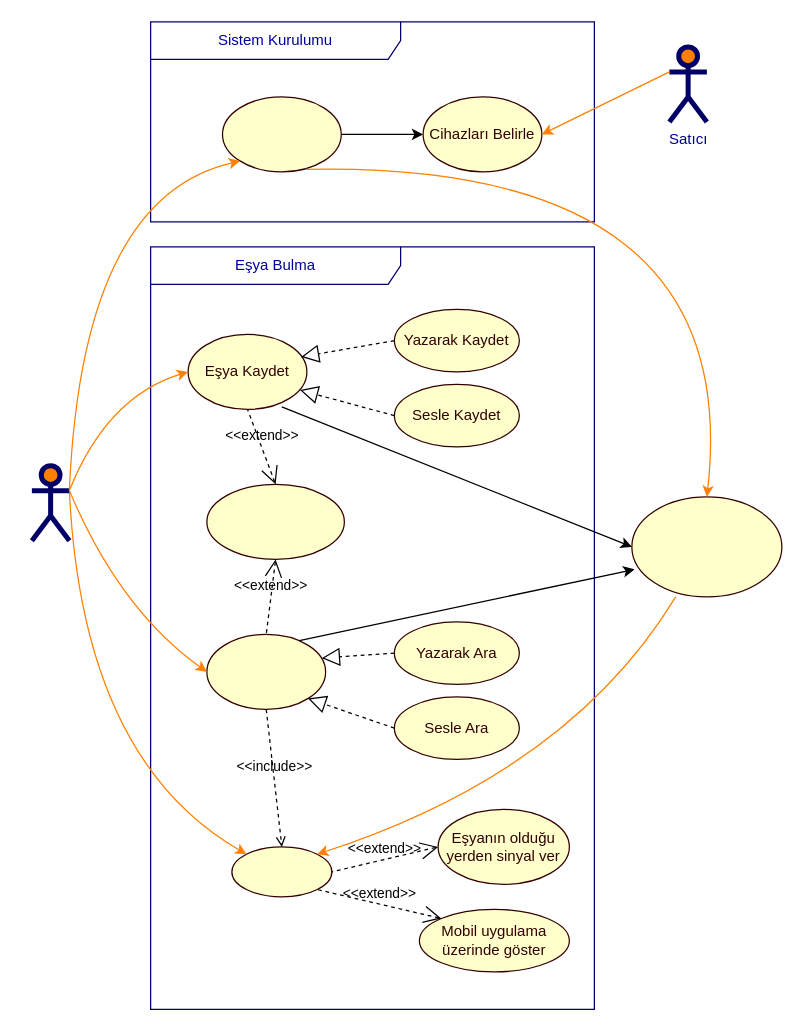
The diagram is 804 pixels wide and 1031 high, and some of its shapes have lost their labels. Each missing label, with the centre of its shape:
"Bölge Sayısı Belirle" goes at point (281, 134).
"Eşya Ara" goes at point (266, 671).
"Eşya ile ilgili anahtar kelimeler" goes at point (275, 521).
"Kullanıcı" goes at point (50, 502).
"Sonuç" goes at point (281, 871).
"Veritabanı" goes at point (706, 546).
